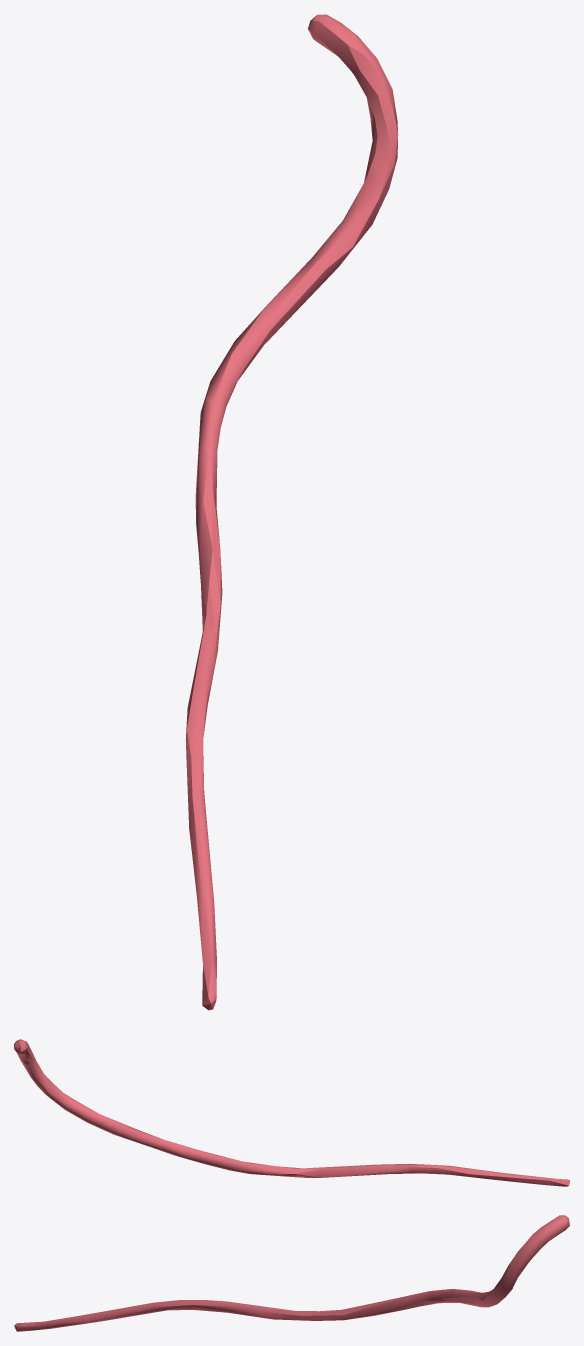
The model's file is fma49880_fj5065.glb.
3 renders of one model, top to bottom at view 1: azimuth 30°, elevation 25°; view 2: azimuth 150°, elevation 25°; view 3: azimuth 270°, elevation 25°, orthographic. The views are drawn at different scales.
Parts seen in each view (by area): view 1: FMA49880_FJ5065; view 2: FMA49880_FJ5065; view 3: FMA49880_FJ5065.
Part boxes in pixels (<box>): FMA49880_FJ5065: <box>185,14,398,1010</box>; FMA49880_FJ5065: <box>14,1039,569,1186</box>; FMA49880_FJ5065: <box>14,1215,569,1331</box>.
Bounding box in the file's own units: 0.0139 × 0.0104 × 0.0187.
